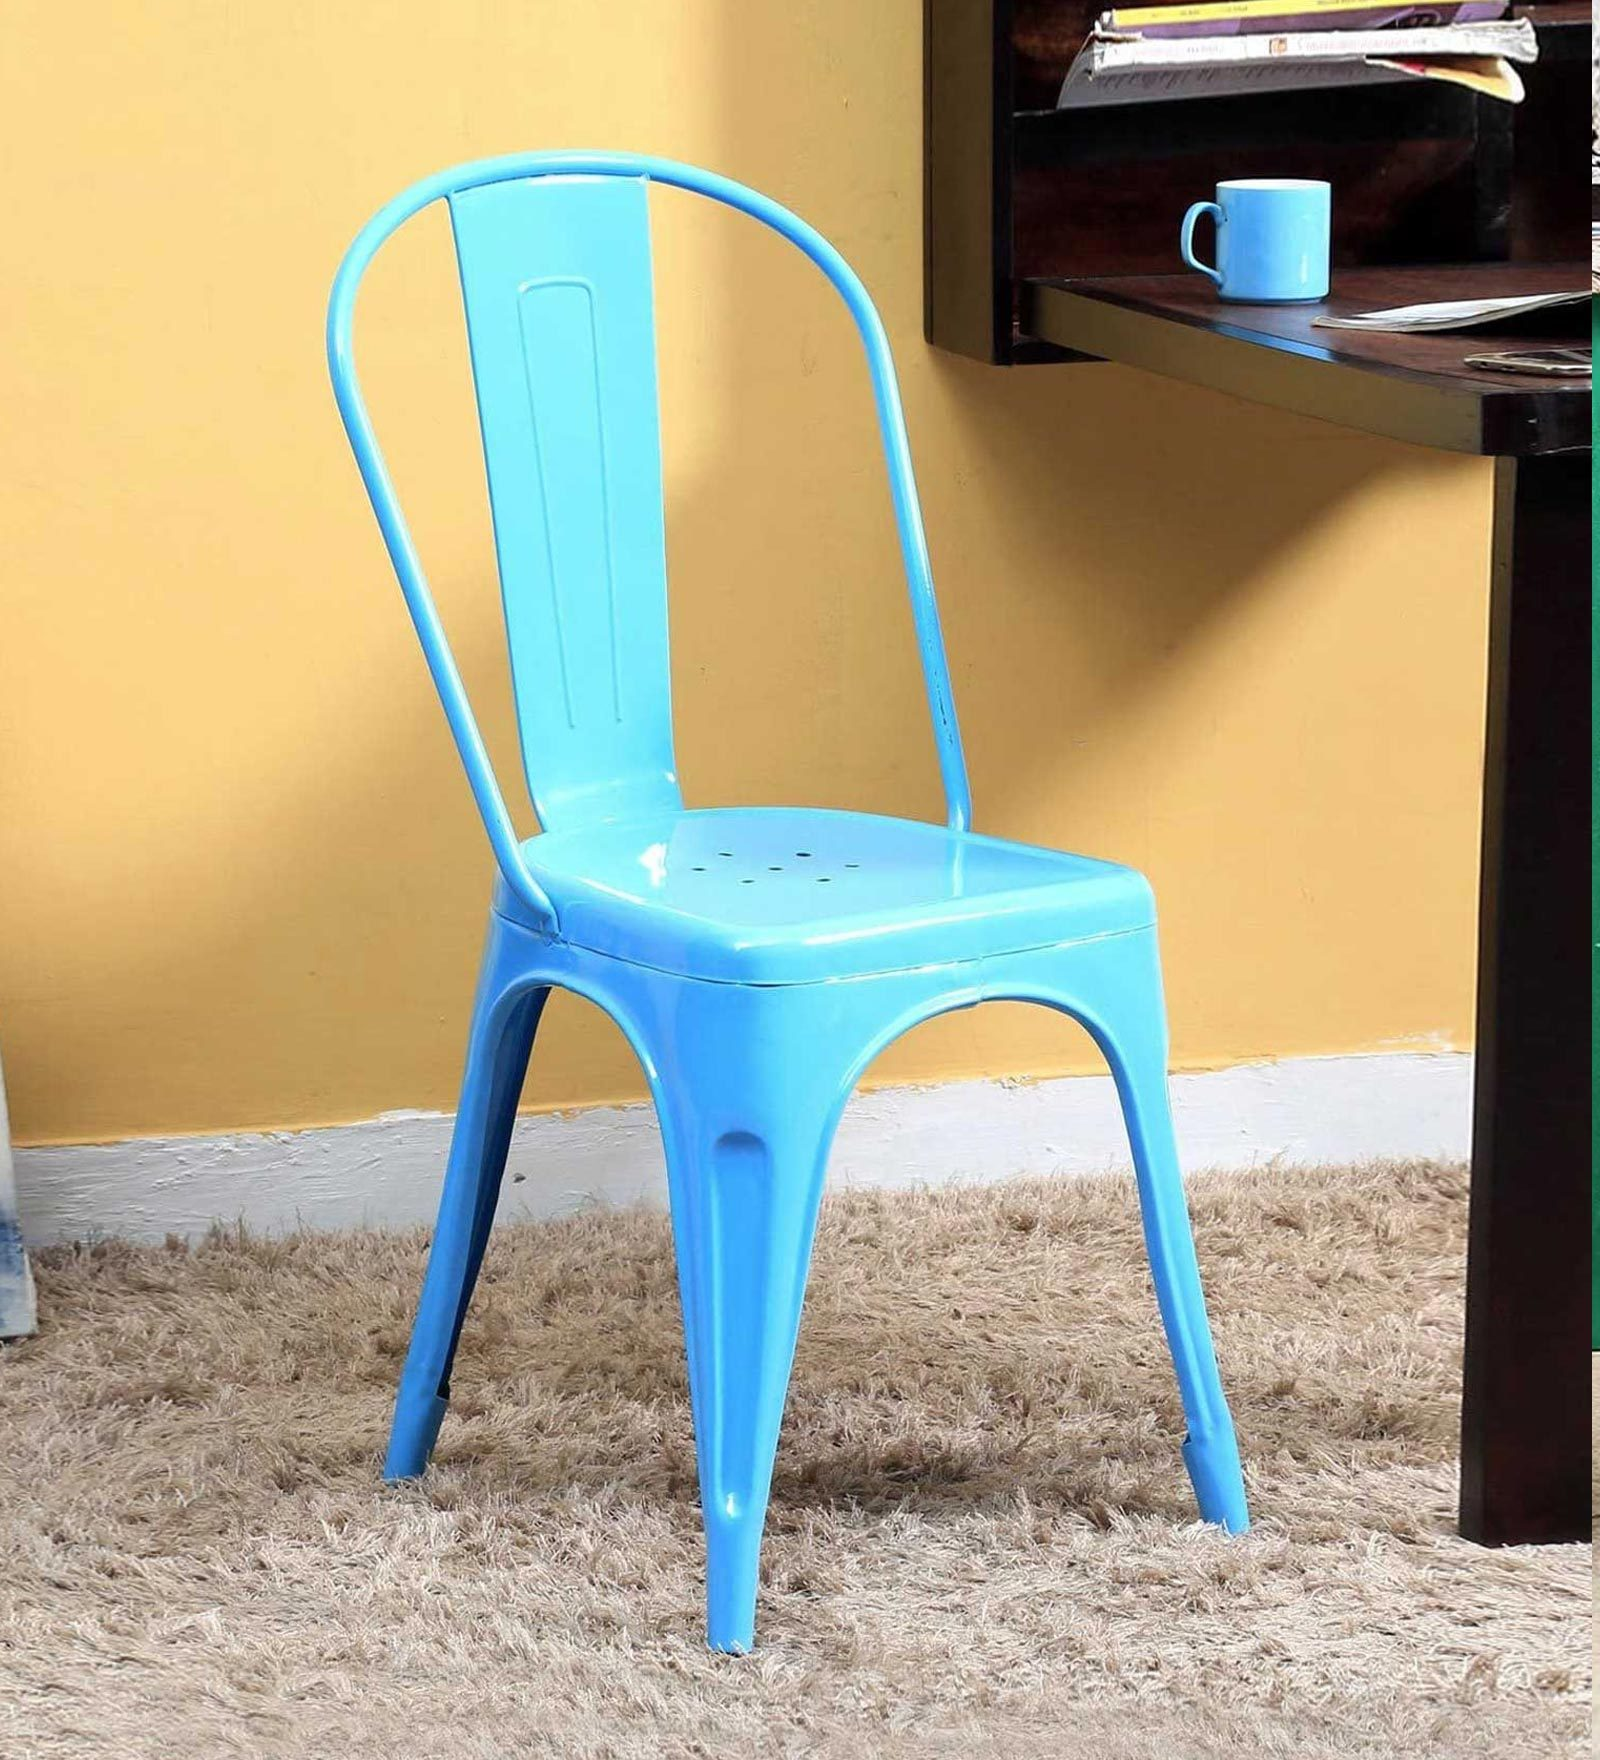Ekati Metal Chair in Blue Color by Bohemiana: (244, 133, 1330, 1688)
